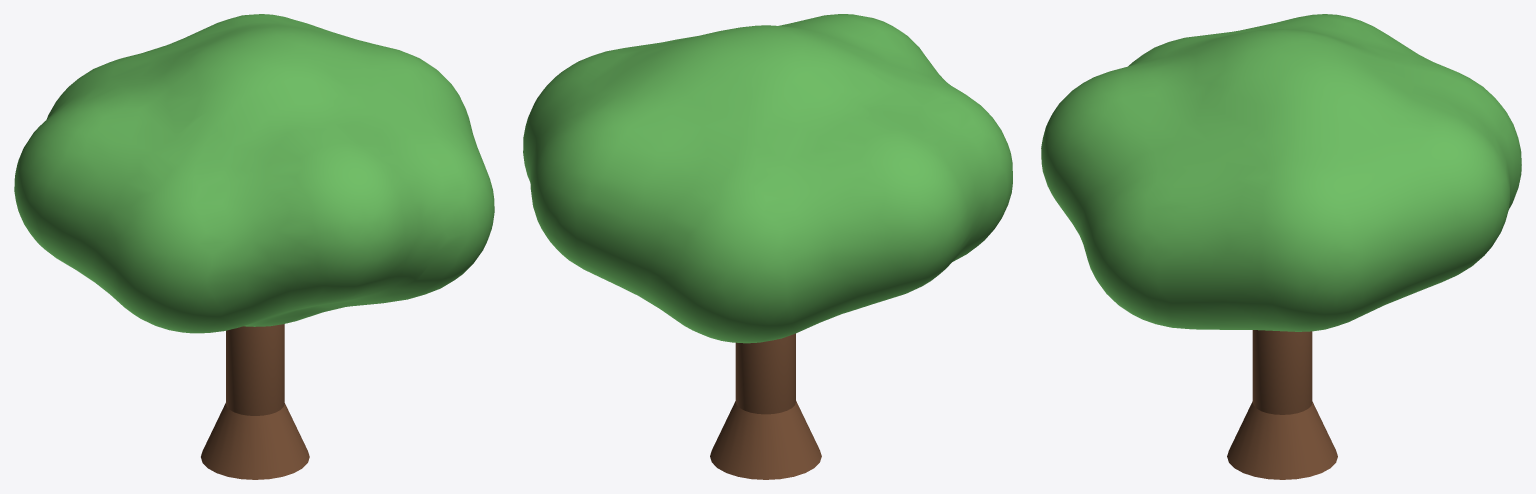
Rendered from tree_round.glb.
The picture shows the model from 3 angles, left to right: view 1: azimuth 30°, elevation 25°; view 2: azimuth 150°, elevation 25°; view 3: azimuth 270°, elevation 25°; orthographic projection. The views are drawn at different scales.
Visible parts, largest first — view 1: tree_round; view 2: tree_round; view 3: tree_round.
Part boxes in pixels (bbox=[...]): tree_round: bbox=[14, 14, 494, 479]; tree_round: bbox=[523, 14, 1012, 479]; tree_round: bbox=[1041, 14, 1521, 479].
Bounding box in the file's own units: 2.31 × 2.14 × 2.25.
